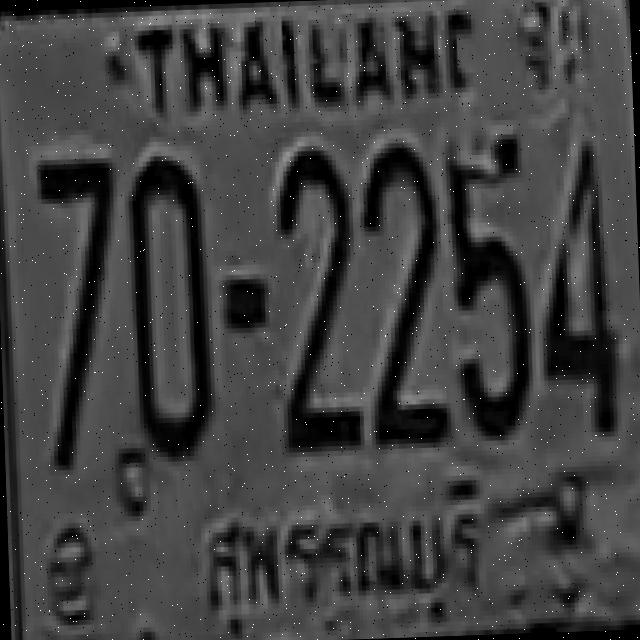0: (123, 152, 213, 455)
2: (364, 212, 447, 442), (275, 224, 358, 445)
4: (536, 136, 618, 434)
7: (36, 153, 118, 350)
SuphanBuri: (188, 474, 502, 640)
